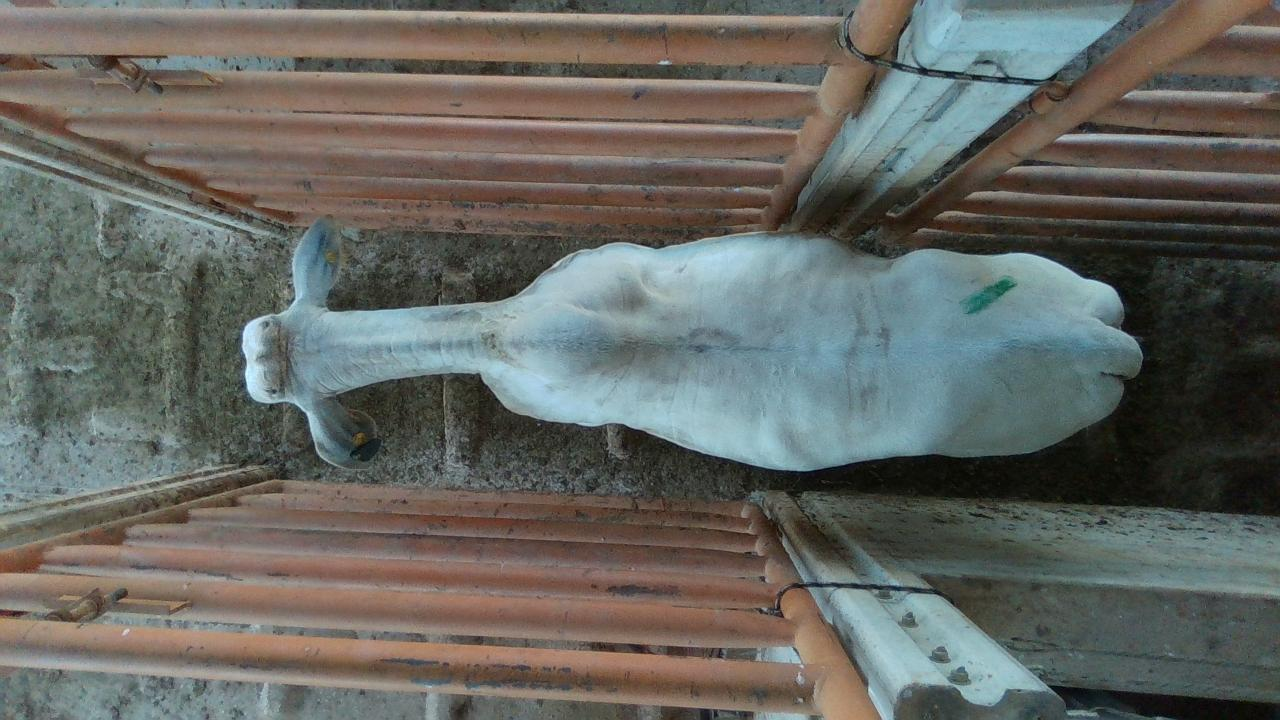cattle: (239, 212, 1144, 474)
